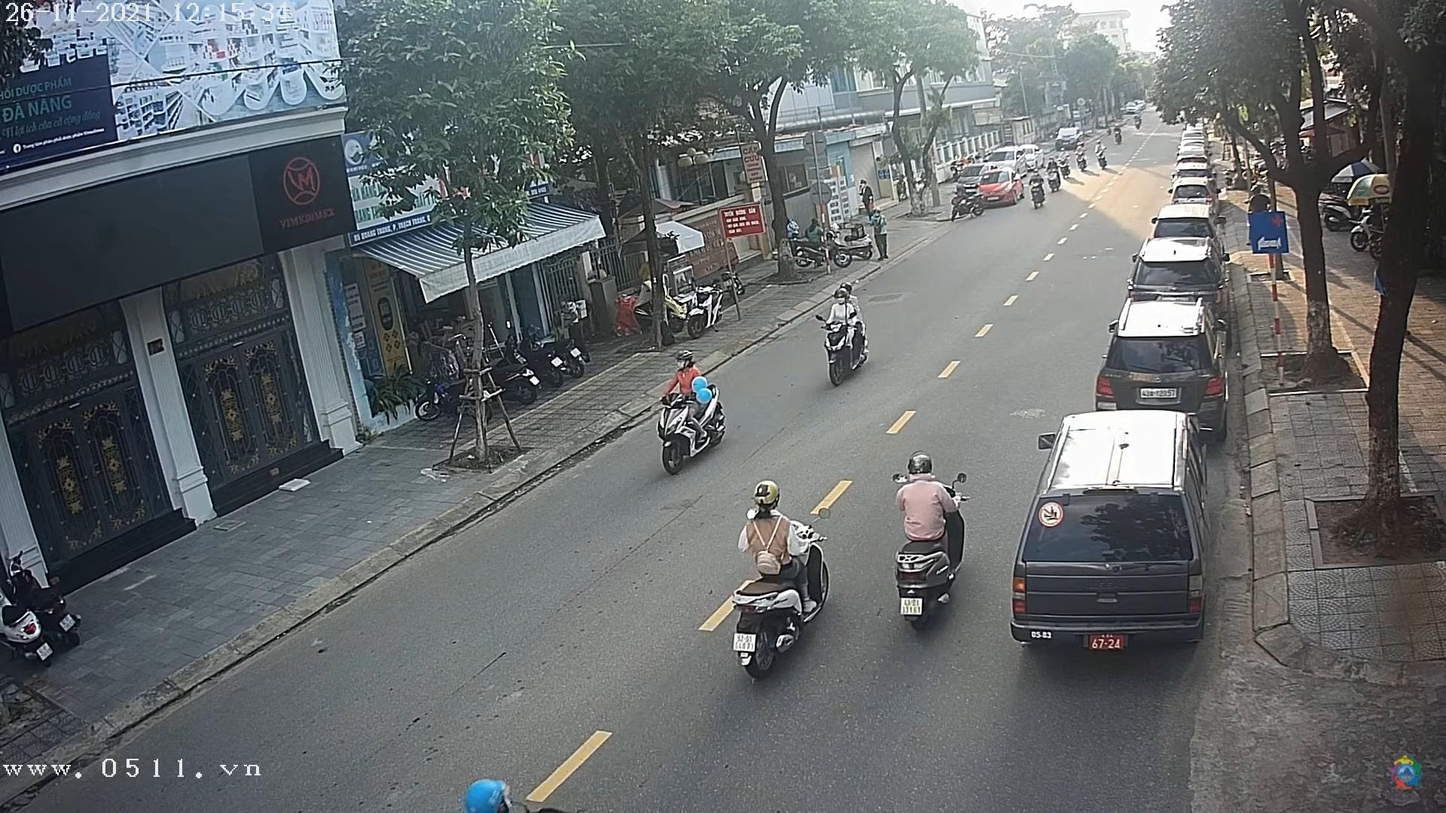car: (1014, 412, 1206, 647), (1095, 300, 1226, 418), (1129, 239, 1224, 296), (1144, 206, 1214, 251), (1170, 182, 1214, 208)
motorbike: (721, 574, 817, 681), (893, 522, 974, 630), (652, 388, 727, 472), (823, 312, 874, 393)
